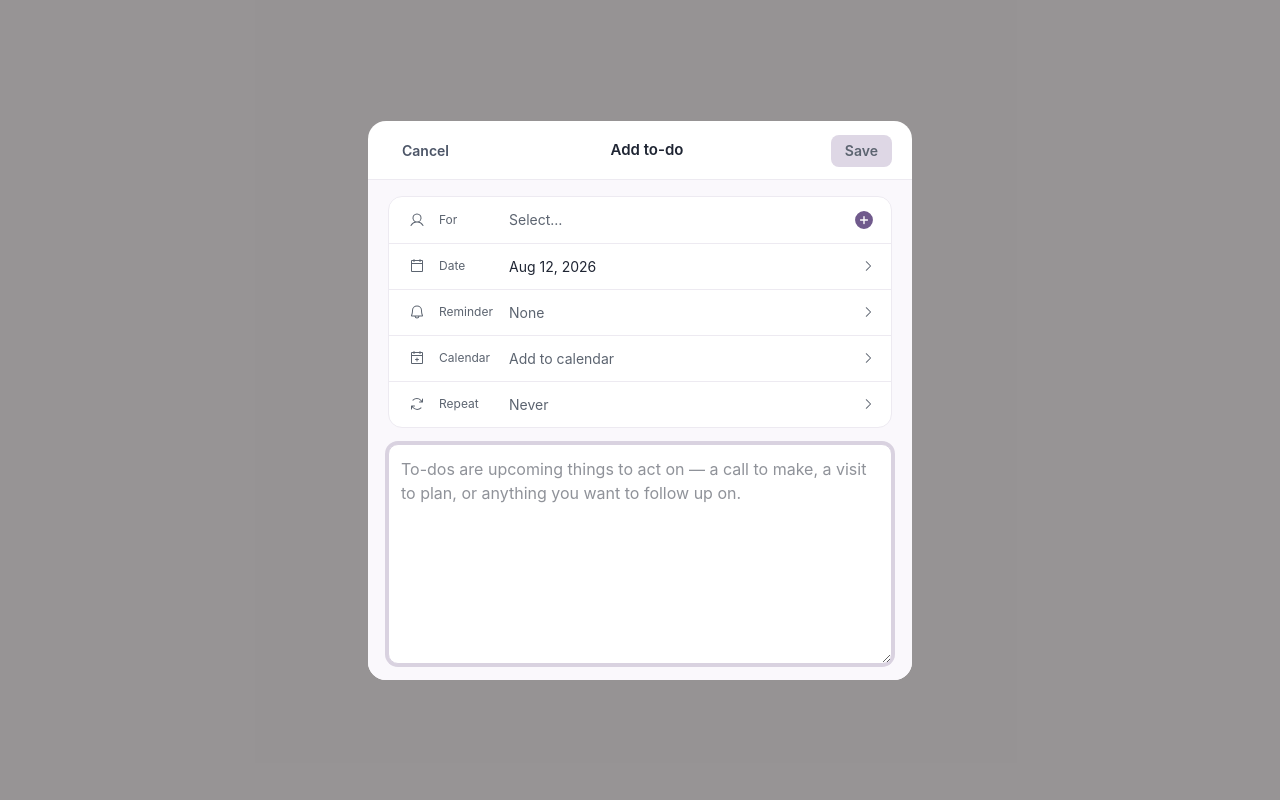
it: AddTodoModal › repeat setting persists — selecting a repeat option updates the label
Expected: the button "Repeat Never" is shown, x1=388 y1=382 x2=892 y2=426
// Open the repeat picker
What coordinates should you click on to do the following:
click the button "Repeat Never"
I would click on:
 (459, 404)
Its box is x1=385 y1=382 x2=895 y2=426.
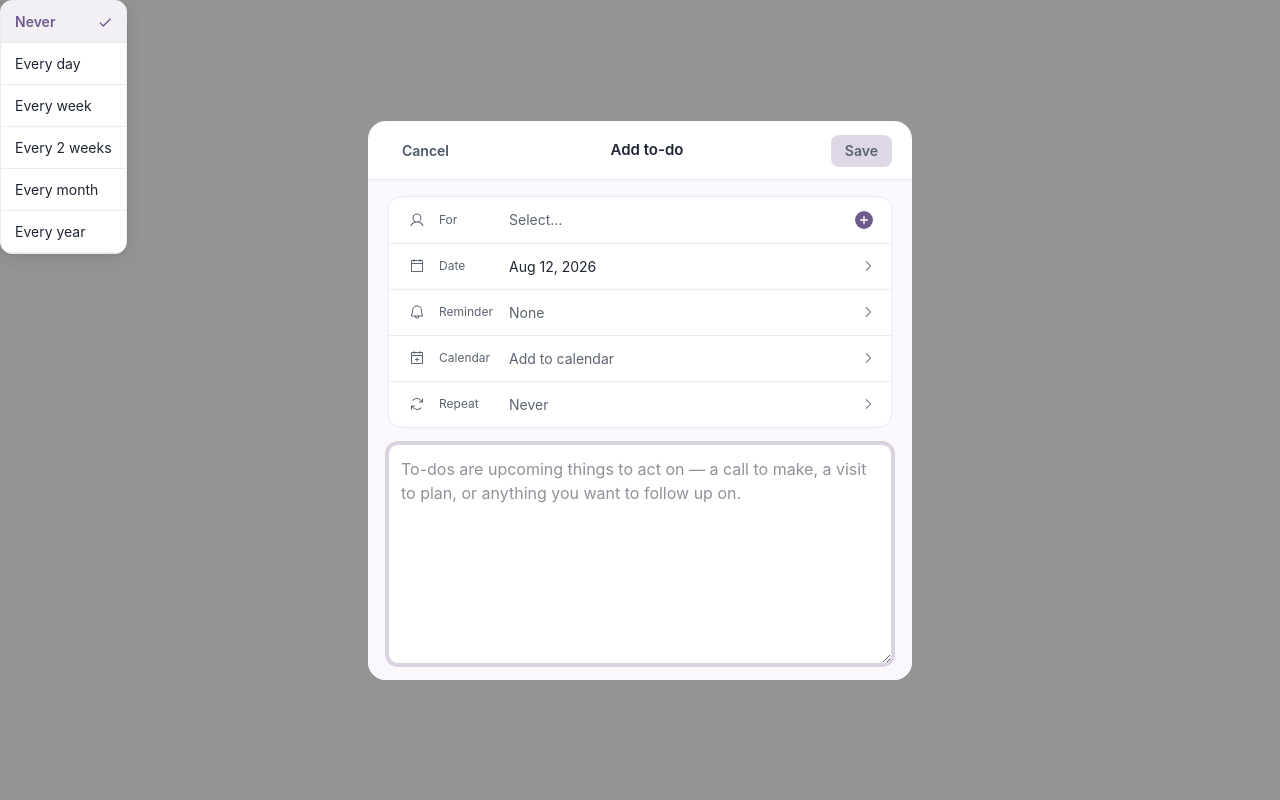
What coordinates should you click on to do the following:
click the button "Every week"
I would click on:
 (63, 106)
Its box is x1=1 y1=85 x2=126 y2=127.
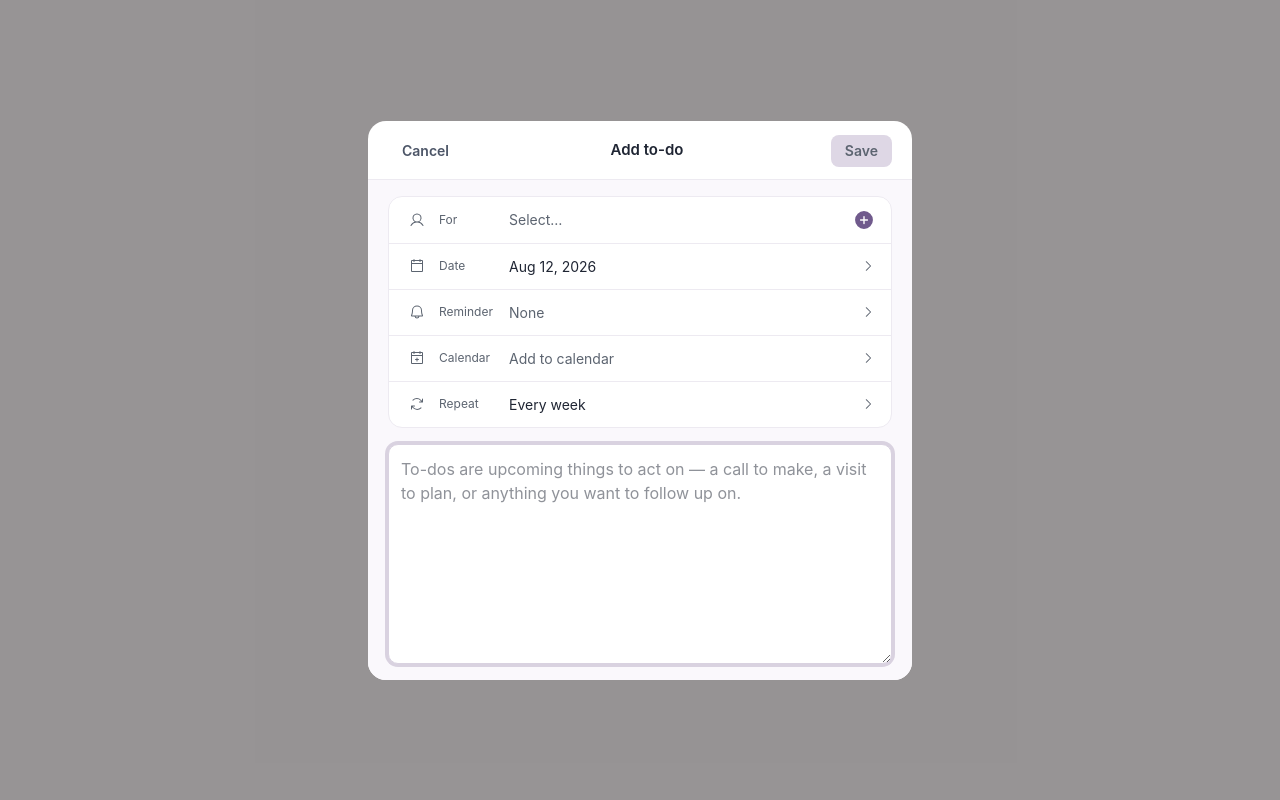
Now the button "Repeat Every week" is shown, box x1=388 y1=382 x2=892 y2=426
